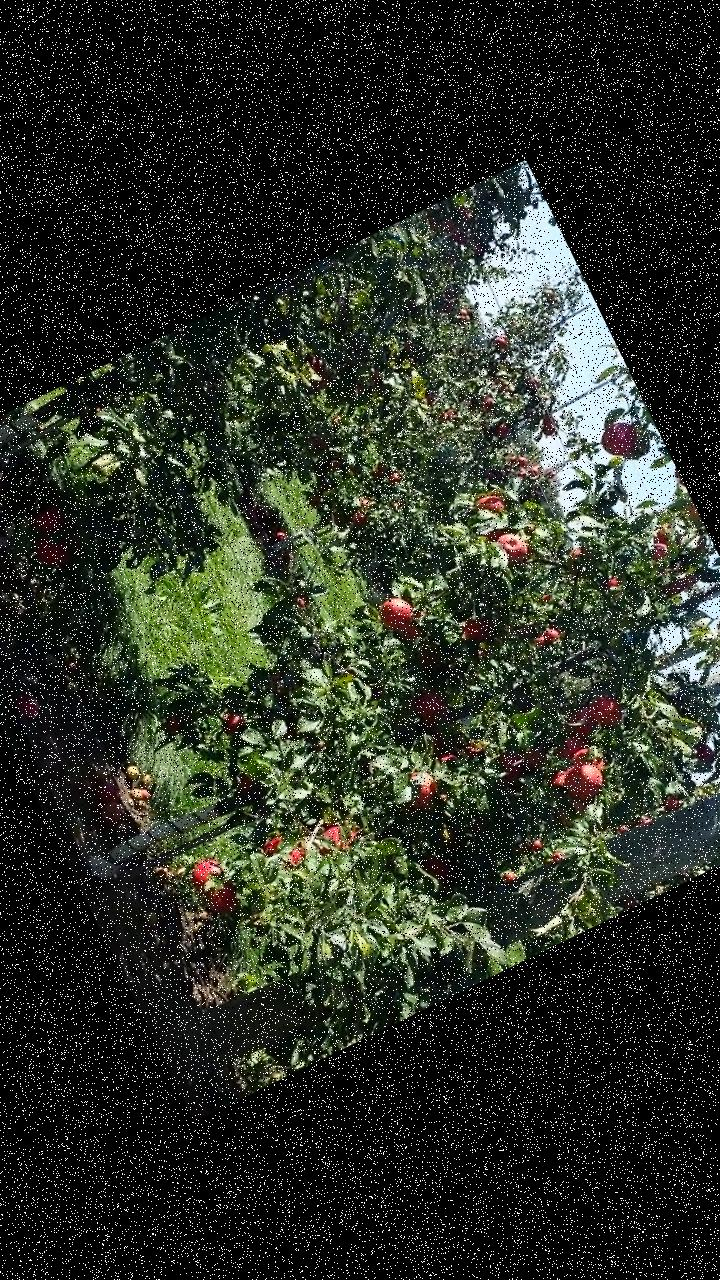Apple: (556, 755, 614, 812), (258, 824, 310, 878), (413, 840, 459, 890), (595, 413, 643, 460), (299, 342, 341, 395), (490, 741, 537, 788), (582, 686, 628, 732), (184, 851, 230, 896), (374, 589, 419, 633), (201, 876, 246, 920), (408, 684, 452, 728), (318, 814, 364, 856), (31, 528, 74, 572), (550, 726, 597, 765), (565, 742, 609, 783), (402, 774, 446, 813), (548, 788, 590, 828), (496, 526, 534, 566), (470, 486, 510, 522), (28, 504, 68, 540), (564, 702, 600, 741), (456, 610, 492, 646), (232, 764, 266, 798), (219, 704, 252, 739), (660, 568, 696, 599), (158, 706, 188, 742), (520, 744, 552, 776), (648, 516, 681, 546), (481, 518, 516, 544), (413, 640, 442, 671), (548, 761, 580, 789), (422, 721, 450, 752), (460, 736, 489, 764), (692, 736, 718, 764), (395, 618, 422, 644), (647, 536, 673, 562), (560, 540, 587, 564), (681, 498, 702, 526), (679, 568, 705, 588), (661, 791, 683, 812), (435, 745, 457, 766), (600, 573, 622, 592), (543, 622, 562, 644), (434, 786, 453, 804), (532, 631, 550, 649)
